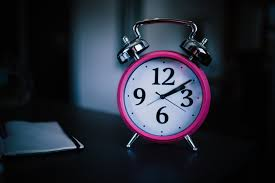alarm_clock: (116, 14, 209, 148)
